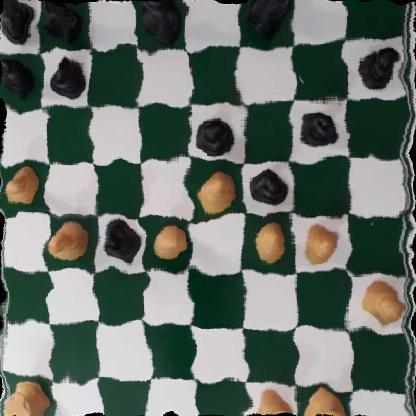black-bishop: (97, 219, 138, 265)
black-king: (140, 0, 185, 47)
black-knight: (37, 0, 82, 42)
black-pawn: (352, 46, 404, 91), (300, 104, 340, 152), (194, 116, 236, 159), (53, 58, 90, 101), (0, 54, 32, 98), (252, 167, 285, 206)
black-rook: (245, 0, 292, 38), (0, 0, 36, 48)
white-bishop: (48, 219, 90, 263)
white-king: (304, 388, 356, 416)
white-pawn: (194, 170, 238, 215), (360, 283, 404, 328), (247, 216, 288, 260), (298, 222, 339, 266), (1, 167, 39, 207), (148, 222, 187, 256)
white-rook: (4, 375, 51, 416), (250, 388, 294, 416)
